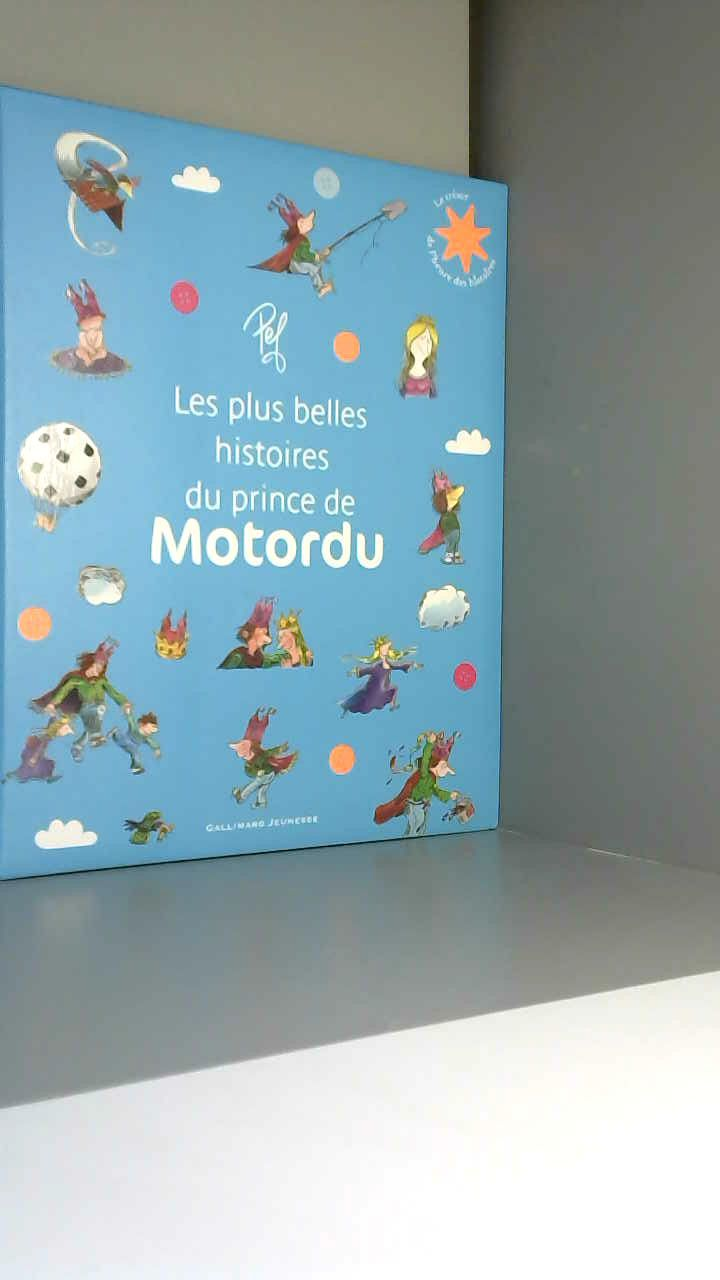book: (0, 62, 536, 908)
